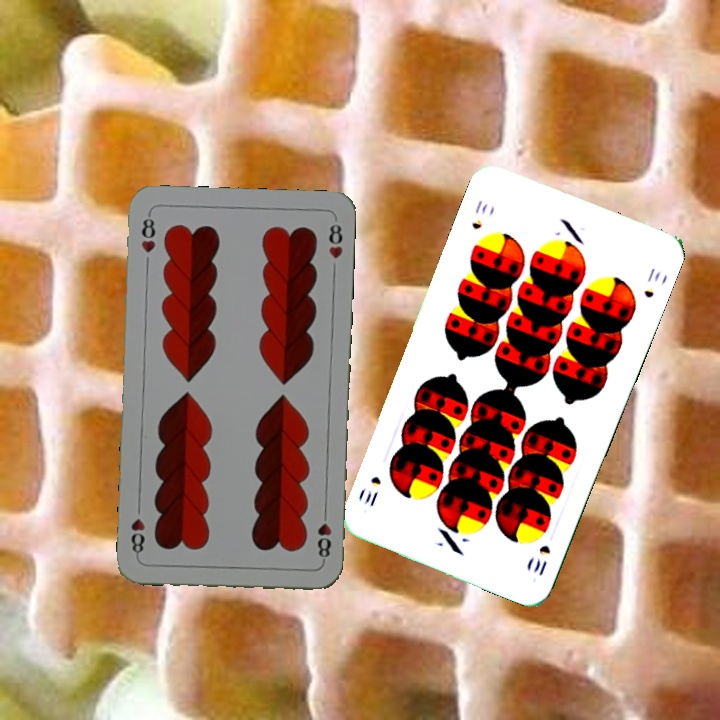H8: (313, 505, 334, 565), (137, 209, 158, 256)
S10: (529, 540, 553, 579), (467, 196, 490, 232)
